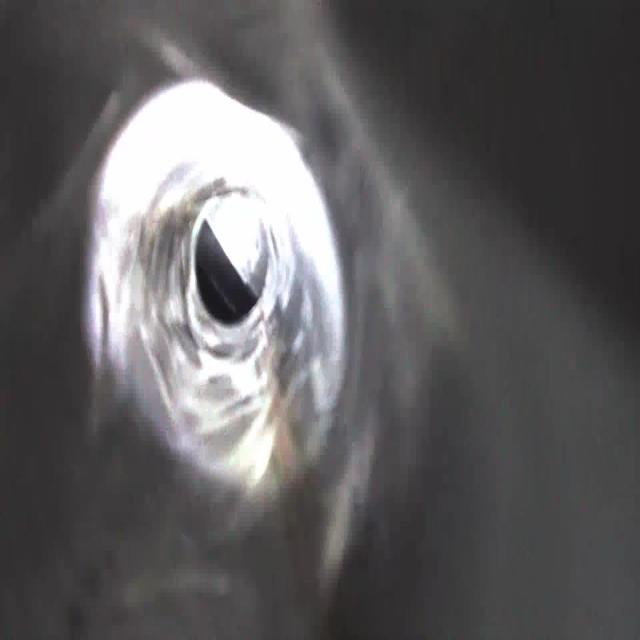crack: (135, 315, 200, 404), (214, 338, 273, 400), (152, 205, 190, 300)
